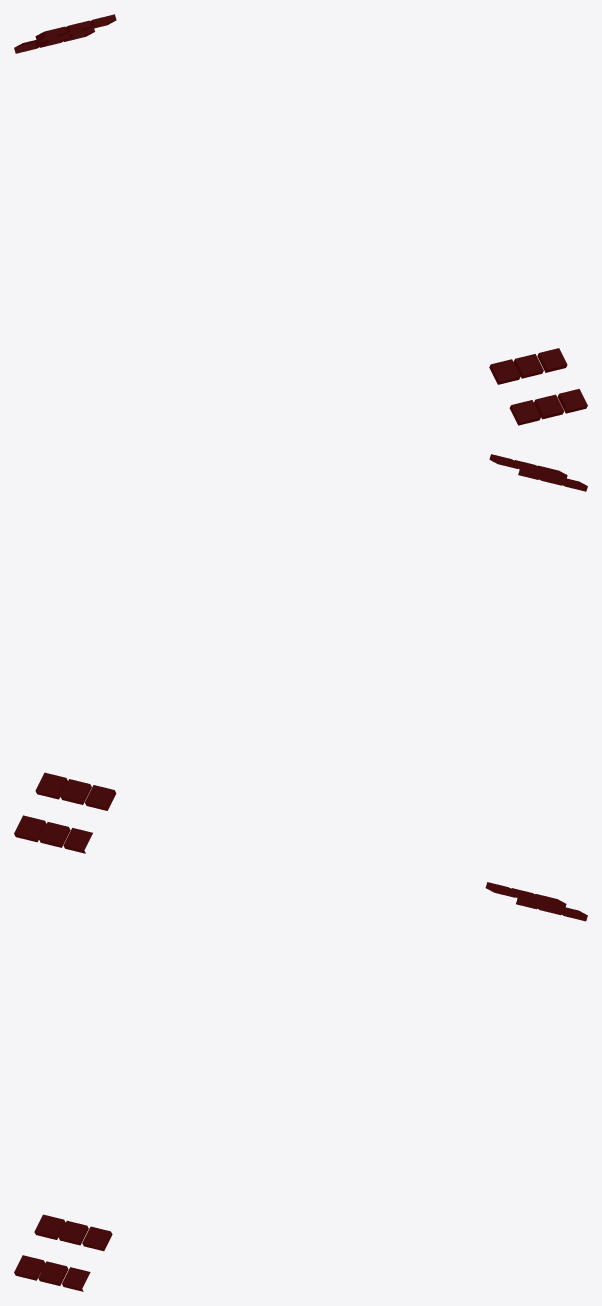
The model's file is Table_3_Button_Red_0.glb.
The picture shows the model from 3 angles, top to bottom: view 1: azimuth 30°, elevation 25°; view 2: azimuth 150°, elevation 25°; view 3: azimuth 330°, elevation 25°; orthographic projection.
Parts seen in each view (by area): view 1: Table_3_Button_Red_0.001, Table_3_Button_Red_0.003, Table_3_Button_Red_0.004; view 2: Table_3_Button_Red_0.005, Table_3_Button_Red_0.006, Table_3_Button_Red_0.007; view 3: Table_3_Button_Red_0.001, Table_3_Button_Red_0.003, Table_3_Button_Red_0.004, Table_3_Button_Red_0.005.
Boxes of the visible parts, box(x1,y1,x2,y2) form: Table_3_Button_Red_0.001: box(489, 359, 540, 425); Table_3_Button_Red_0.003: box(513, 354, 564, 419); Table_3_Button_Red_0.004: box(537, 348, 587, 413); Table_3_Button_Red_0.005: box(14, 772, 67, 842); Table_3_Button_Red_0.006: box(39, 779, 91, 847); Table_3_Button_Red_0.007: box(63, 785, 116, 853); Table_3_Button_Red_0.001: box(14, 1214, 65, 1280); Table_3_Button_Red_0.003: box(38, 1220, 88, 1285); Table_3_Button_Red_0.004: box(62, 1226, 112, 1291); Table_3_Button_Red_0.005: box(534, 894, 587, 921).
Bounding box in the file's own units: 0.0948 × 0.0618 × 1.18.
